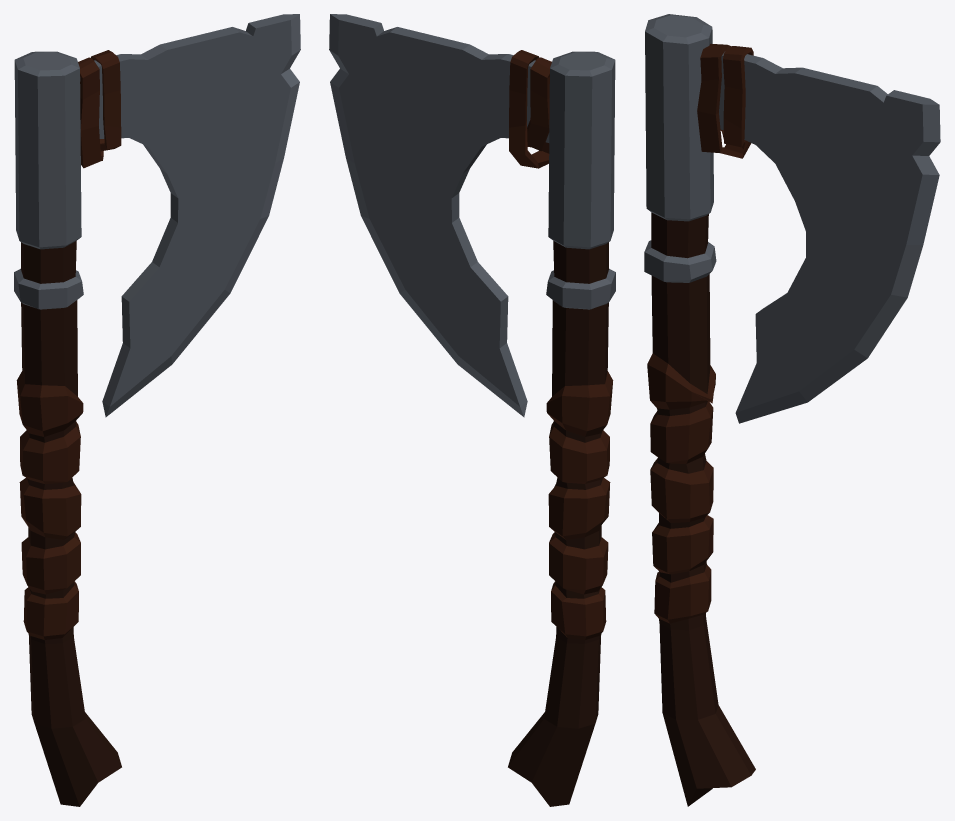
The model's file is Axe_Small.glb.
The picture shows the model from 3 angles, left to right: view 1: azimuth 30°, elevation 25°; view 2: azimuth 150°, elevation 25°; view 3: azimuth 330°, elevation 25°; orthographic projection. The views are drawn at different scales.
Visible parts, largest first — view 1: Axe_small; view 2: Axe_small; view 3: Axe_small.
Part boxes in pixels (bbox=[...]): Axe_small: bbox=[14, 14, 300, 806]; Axe_small: bbox=[329, 14, 615, 806]; Axe_small: bbox=[644, 14, 940, 806].
Size of the model in its own units: 117 by 296 by 24.83.
